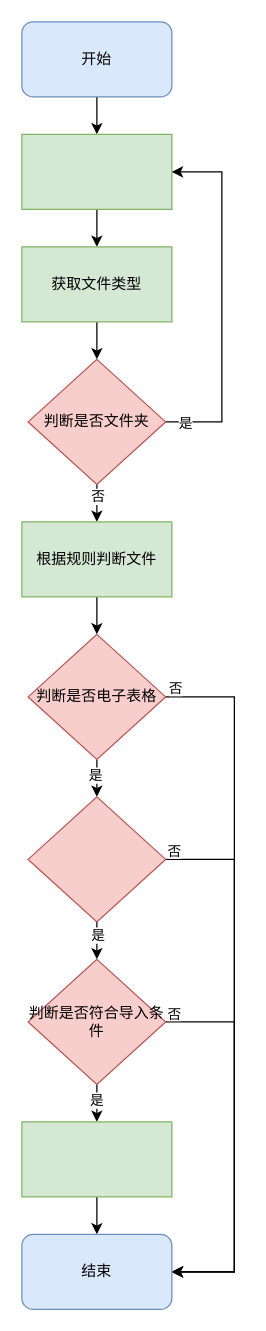
Image size: 266x1331. Some labels were removed from this diagram. Here are the shapes that lost their labels. From the top down, the centre of each, then its label:
At pixel 96 171: "遍历协议路径".
At pixel 96 859: "判断是否符合规范".
At pixel 96 1159: "导入协议".
